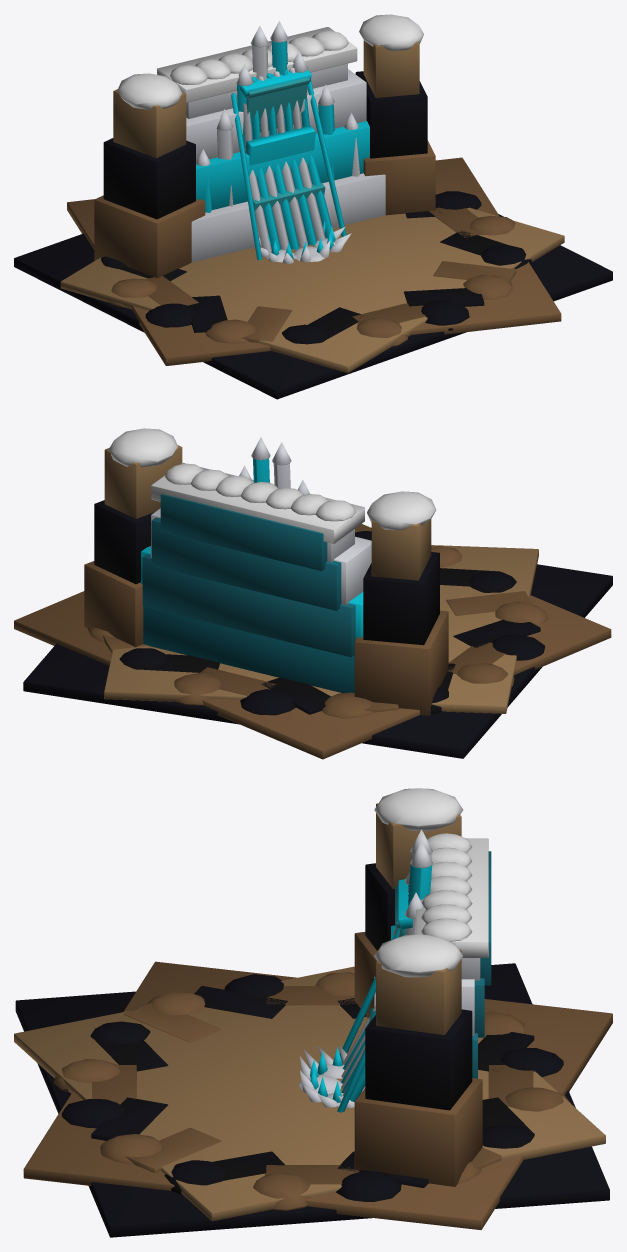
The model's file is glacial_lake.glb.
3 renders of one model, top to bottom at view 1: azimuth 30°, elevation 25°; view 2: azimuth 150°, elevation 25°; view 3: azimuth 270°, elevation 25°, orthographic. The views are drawn at different scales.
Parts seen in each view (by area): view 1: glacial_lake; view 2: glacial_lake; view 3: glacial_lake.
Boxes of the visible parts, bbox=[...] form: glacial_lake: bbox=[14, 14, 612, 399]; glacial_lake: bbox=[14, 428, 612, 759]; glacial_lake: bbox=[14, 788, 612, 1237].
Size of the model in its own units: 22.36 by 10.77 by 21.47.
